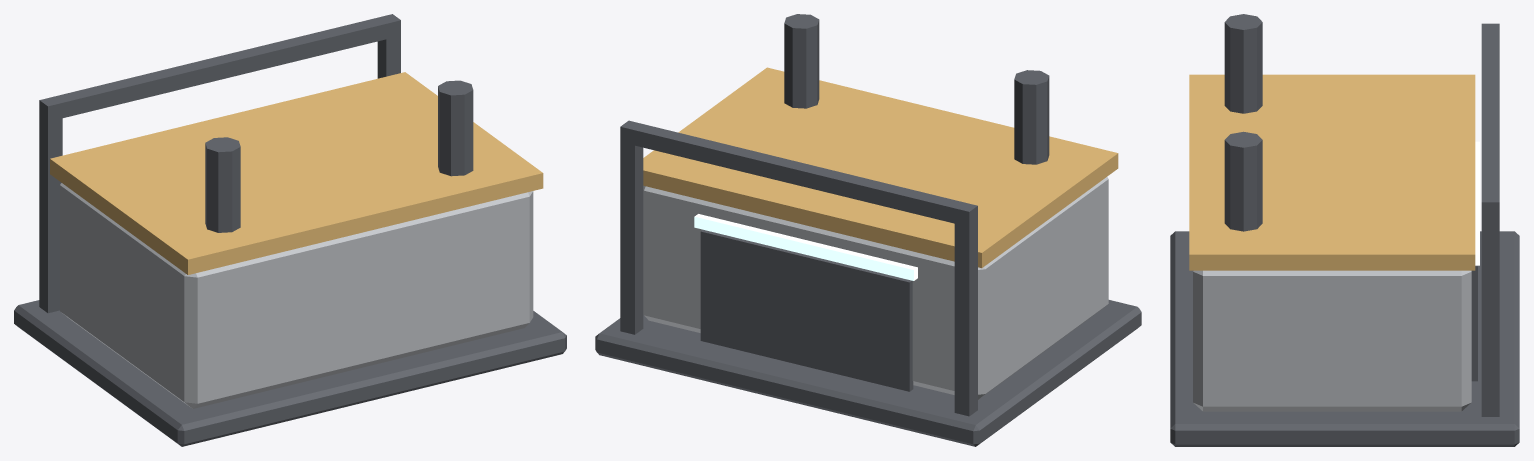
Rendered from vehicle_factory-DfmHMwZw.glb.
3 views of the same model, side by side, from view 1: azimuth 30°, elevation 25°; view 2: azimuth 150°, elevation 25°; view 3: azimuth 270°, elevation 25° (orthographic). The views are drawn at different scales.
Parts seen in each view (by area): view 1: slab; view 2: slab; view 3: slab.
Part boxes in pixels (bbox=[...]): slab: bbox=[14, 14, 566, 446]; slab: bbox=[595, 14, 1141, 446]; slab: bbox=[1170, 14, 1519, 446].
Size of the model in its own units: 3.68 by 2.35 by 2.76.
